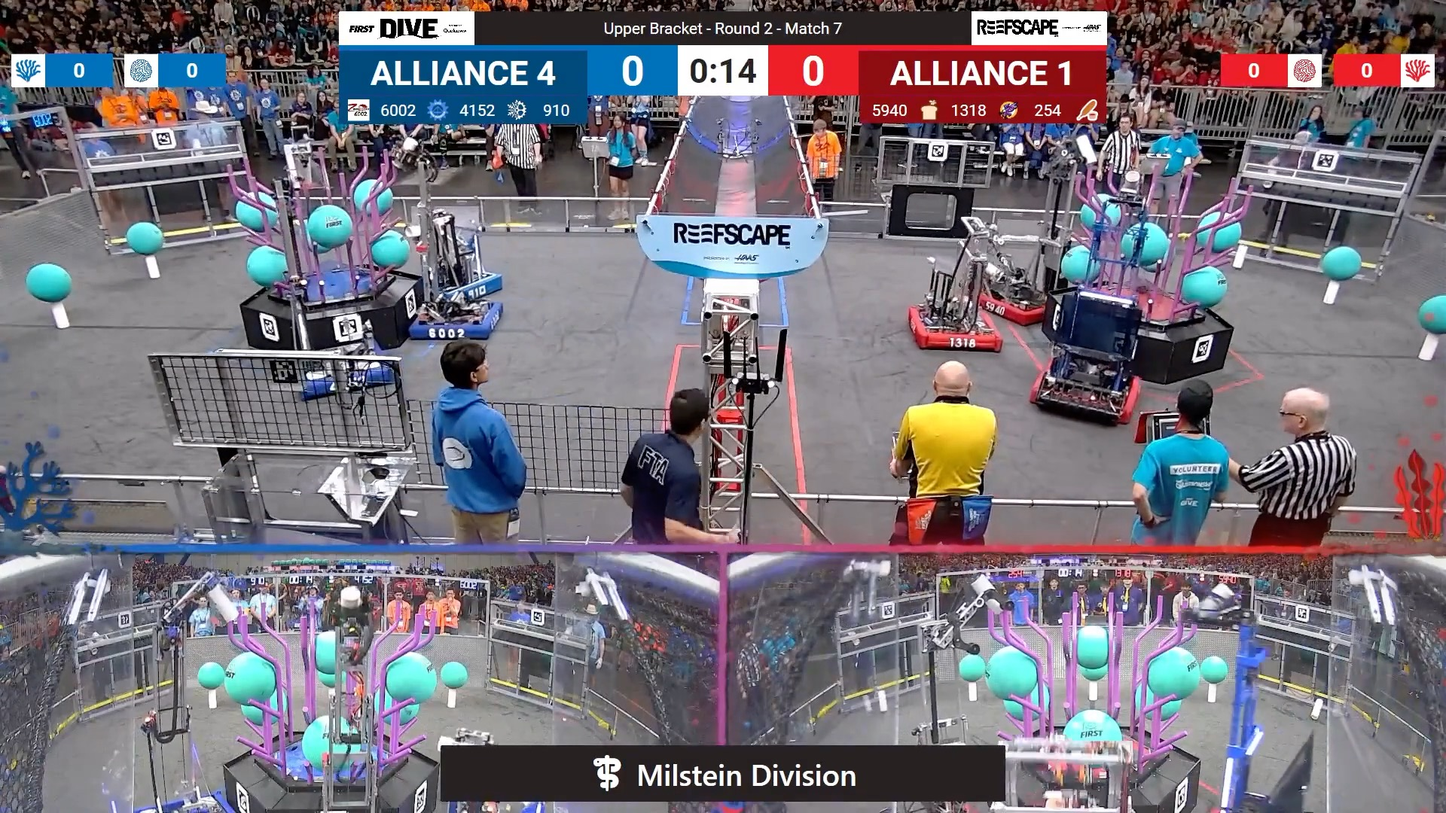bumpers: (1021, 361, 1146, 427), (283, 345, 407, 399), (905, 307, 1014, 361), (400, 295, 507, 343), (104, 787, 241, 813), (974, 288, 1060, 329), (416, 268, 510, 300)
